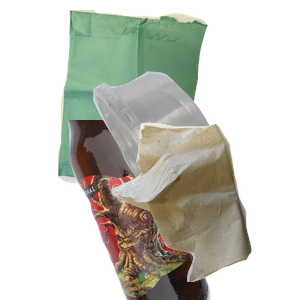glass: (65, 120, 300, 300)
paper: (55, 10, 255, 190)
plastic: (91, 69, 300, 249)
trash: (109, 120, 300, 300)
